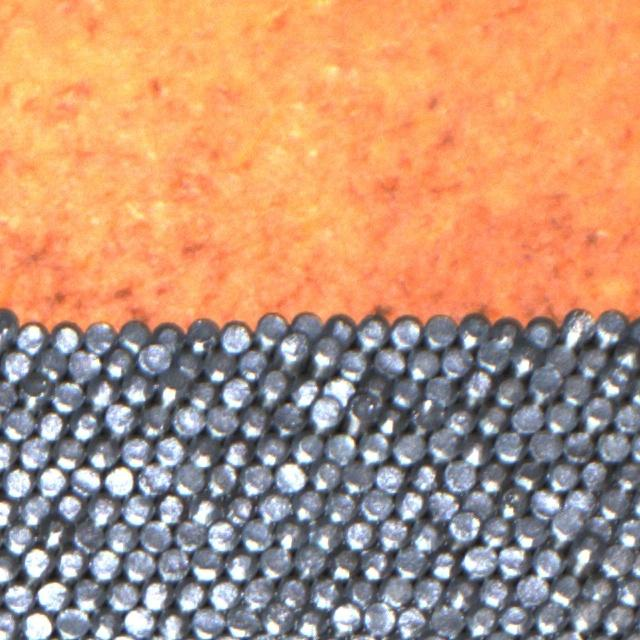tool: (544, 399, 578, 434), (270, 401, 304, 436), (136, 402, 170, 437), (290, 429, 324, 464), (66, 347, 100, 381), (498, 602, 532, 636), (492, 428, 526, 462), (442, 458, 476, 492), (509, 401, 543, 435), (422, 313, 456, 347), (54, 606, 88, 640), (361, 601, 395, 635), (374, 516, 408, 550), (238, 461, 272, 495), (509, 458, 543, 492), (567, 598, 601, 632), (224, 604, 258, 638), (388, 316, 422, 350), (102, 344, 136, 378), (512, 514, 546, 548), (560, 309, 593, 344), (156, 547, 189, 581), (36, 578, 70, 611), (190, 605, 223, 639), (462, 543, 495, 577), (70, 519, 104, 552), (120, 433, 153, 467), (258, 545, 291, 579), (464, 603, 498, 636), (475, 400, 508, 434), (88, 547, 121, 581), (372, 345, 405, 379), (458, 371, 492, 404), (439, 344, 472, 378), (527, 429, 560, 463), (120, 492, 154, 525), (84, 377, 118, 410), (560, 429, 594, 462), (425, 428, 458, 462), (393, 544, 426, 578), (293, 544, 326, 578), (20, 546, 53, 580), (190, 546, 223, 580), (173, 578, 206, 612), (260, 602, 294, 635), (477, 574, 510, 608), (72, 578, 105, 612), (137, 461, 170, 495), (52, 436, 86, 469), (205, 460, 238, 494), (255, 371, 289, 404), (254, 432, 288, 465), (594, 308, 627, 342), (50, 378, 83, 412), (423, 375, 456, 409), (292, 488, 325, 522), (102, 462, 135, 496), (82, 318, 115, 352), (34, 464, 68, 497), (564, 541, 597, 575), (429, 602, 462, 636), (457, 311, 490, 345), (255, 308, 288, 342), (118, 316, 150, 351), (187, 316, 219, 351), (207, 577, 240, 610), (140, 578, 173, 611), (323, 431, 356, 464), (344, 574, 377, 607), (493, 373, 526, 406), (171, 403, 204, 436), (241, 576, 274, 609), (356, 430, 389, 463), (545, 459, 578, 492), (120, 372, 153, 405), (560, 371, 593, 404), (172, 518, 205, 551), (222, 491, 255, 524), (171, 462, 204, 495), (444, 577, 477, 610), (574, 343, 607, 376), (533, 600, 566, 633), (205, 518, 238, 551), (461, 486, 494, 519), (548, 510, 581, 543), (237, 405, 270, 438), (446, 511, 479, 544), (86, 435, 119, 468), (324, 491, 357, 524), (257, 491, 290, 524), (341, 401, 374, 434), (123, 604, 155, 638), (103, 402, 135, 436), (548, 572, 580, 606), (395, 605, 427, 639), (390, 374, 422, 408), (406, 345, 438, 379), (272, 518, 306, 550), (186, 434, 220, 466), (87, 492, 119, 526), (137, 342, 171, 374), (67, 408, 101, 440), (154, 374, 188, 406), (153, 433, 185, 467), (580, 397, 612, 431), (328, 601, 360, 635), (408, 398, 442, 430), (220, 321, 252, 354), (105, 578, 138, 610), (513, 574, 546, 606), (122, 547, 154, 580), (597, 428, 629, 461), (411, 576, 444, 608), (18, 435, 50, 468), (274, 460, 306, 493), (224, 548, 256, 581), (17, 492, 50, 524), (308, 576, 341, 608), (602, 601, 634, 634), (54, 546, 86, 579), (391, 432, 424, 464), (308, 519, 340, 552), (104, 519, 136, 552), (308, 397, 340, 430), (341, 460, 373, 493), (34, 347, 66, 380), (33, 408, 66, 440), (598, 544, 631, 576), (359, 487, 391, 520), (138, 519, 170, 552), (425, 488, 458, 520), (358, 546, 391, 578), (220, 435, 253, 467), (407, 459, 439, 492), (597, 366, 630, 398), (408, 520, 441, 552), (375, 404, 407, 437), (326, 547, 359, 579), (276, 576, 308, 609), (428, 546, 460, 579), (293, 608, 326, 640), (1, 465, 34, 497), (378, 576, 411, 608), (530, 545, 562, 578), (528, 368, 560, 401), (1, 406, 33, 439), (585, 509, 617, 542), (355, 376, 388, 408), (479, 514, 512, 546), (54, 489, 86, 522), (152, 321, 184, 354), (489, 316, 521, 349), (220, 376, 252, 408), (323, 372, 355, 404), (20, 608, 52, 640), (337, 348, 369, 380), (187, 378, 219, 410), (236, 347, 268, 379), (308, 458, 340, 490), (290, 376, 322, 408), (496, 544, 528, 576), (598, 486, 630, 518), (496, 486, 528, 518), (172, 348, 204, 380), (240, 518, 272, 550), (443, 404, 475, 436), (69, 464, 101, 496), (2, 581, 34, 613), (342, 518, 374, 550), (3, 520, 35, 552), (154, 493, 186, 525), (565, 486, 597, 518), (476, 459, 508, 491), (579, 458, 611, 490), (529, 487, 561, 519), (188, 494, 220, 526), (204, 404, 236, 436), (476, 339, 508, 371), (525, 316, 557, 348), (38, 516, 70, 548), (203, 348, 235, 380), (355, 316, 387, 348), (581, 573, 613, 605), (292, 306, 324, 338), (458, 434, 490, 466), (540, 346, 572, 378), (89, 609, 122, 640), (374, 462, 406, 493), (394, 488, 425, 520), (156, 609, 188, 640), (14, 322, 46, 353), (277, 332, 308, 364), (49, 321, 80, 353), (18, 381, 50, 412), (0, 348, 31, 380), (310, 333, 342, 364), (508, 344, 539, 376), (327, 312, 357, 343), (613, 400, 640, 433), (613, 458, 640, 490), (613, 341, 640, 371), (615, 574, 640, 606), (615, 516, 640, 548), (0, 609, 20, 640), (0, 552, 18, 585), (0, 378, 17, 411), (0, 436, 17, 469), (0, 304, 17, 336), (0, 495, 16, 528)
